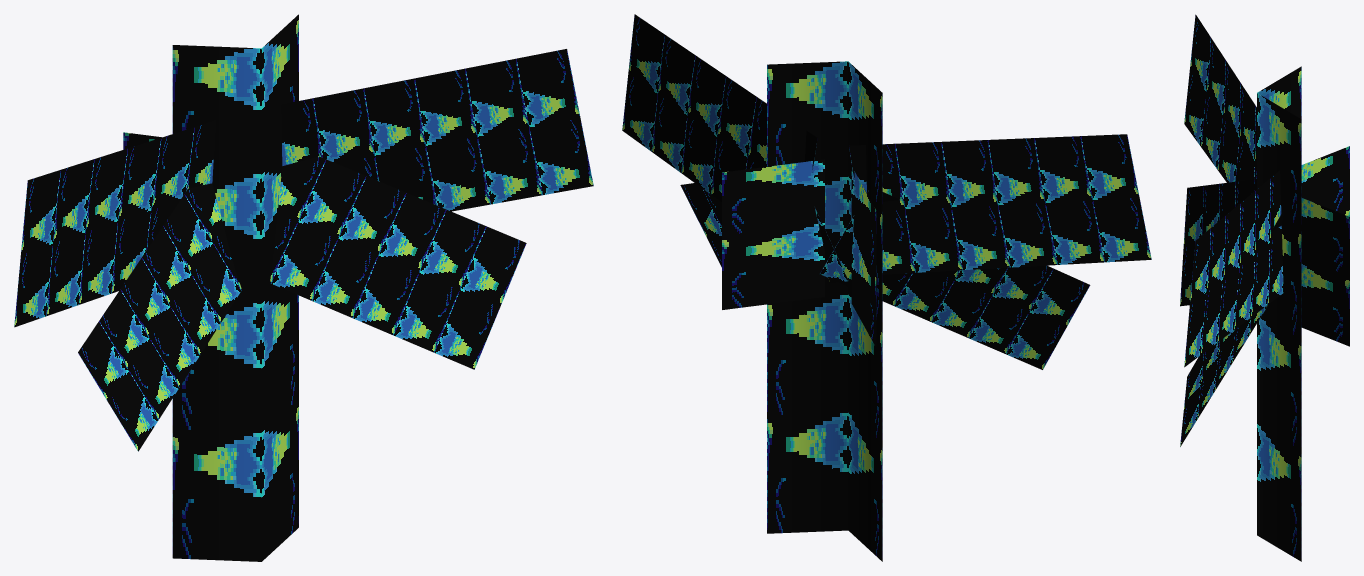
File: 5044musi54_e.gltf
3 views of the same model, side by side, from view 1: azimuth 30°, elevation 25°; view 2: azimuth 150°, elevation 25°; view 3: azimuth 270°, elevation 25° (orthographic). The views are drawn at different scales.
Parts seen in each view (by area): view 1: 5044musi54_e; view 2: 5044musi54_e; view 3: 5044musi54_e.
Boxes of the visible parts, x1,y1,x2,y2 form: 5044musi54_e: (14,14,593,561); 5044musi54_e: (622,14,1151,561); 5044musi54_e: (1180,14,1349,561).
Bounding box in the file's own units: 0.4697 × 0.3977 × 0.1384.
1 material, 1 textured.
